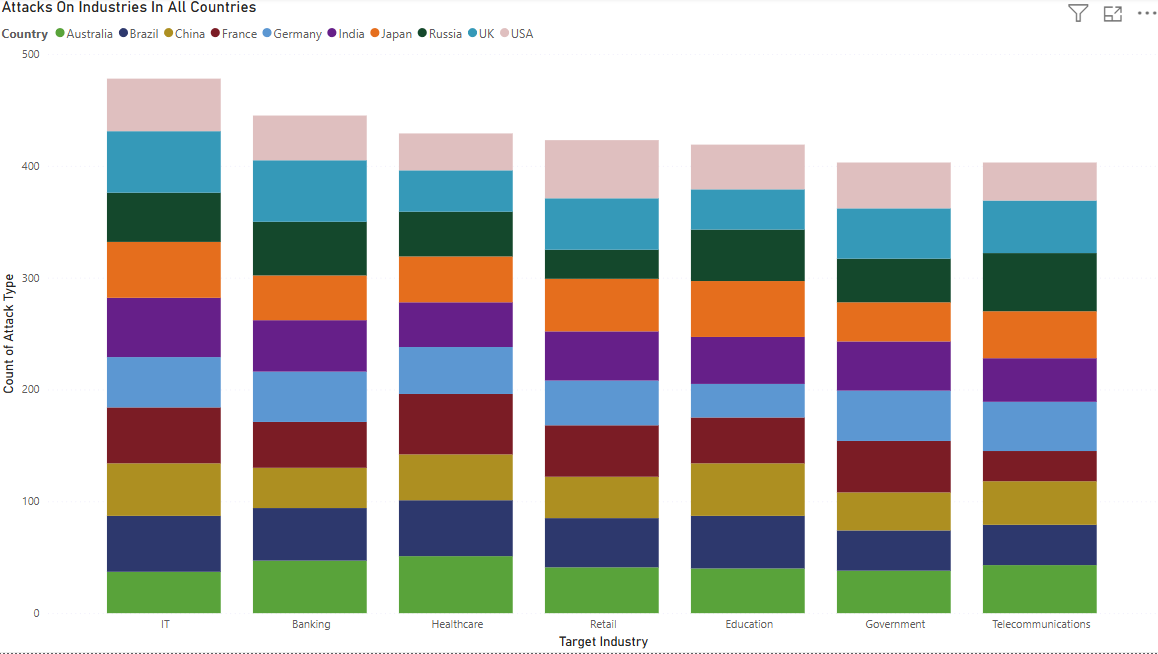

The dashboard page shown, as its layout file describes it:
{"tool":"powerbi","page":{"name":"Page 7","canvas":[1280,720],"ordinal":6},"visuals":[{"type":"columnChart","title":"Attacks On Industries In All Countries","fields":{"Y":["CountNonNull(Global_Cybersecurity_Threats_2015-2024.Attack Type)"],"Category":["Global_Cybersecurity_Threats_2015-2024.Target Industry"],"Series":["Global_Cybersecurity_Threats_2015-2024.Country"]},"box":[0,0,1280,720.2],"z":0}]}

Visuals, with their boxes in screenshot pixels (x1, y1, x2, y2), scaled from the page's 1280x720 canvas onto the 1158x654 screenshot:
"Attacks On Industries In All Countries" columnChart: (0,0,1157,653)
